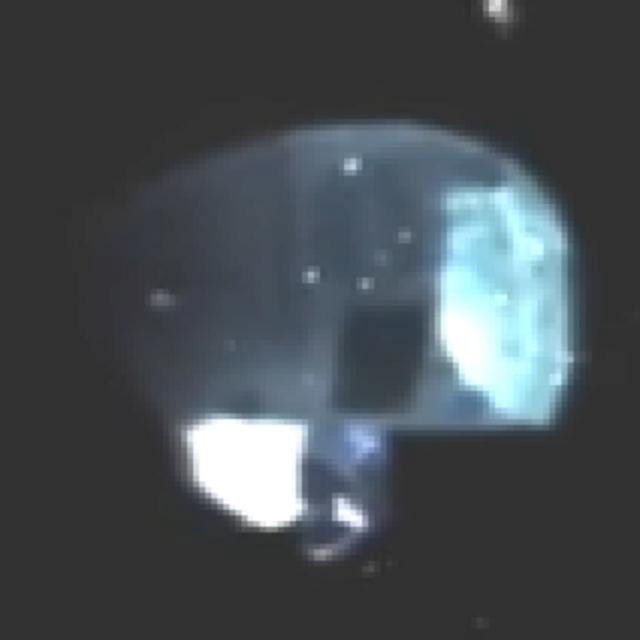large_debris: (8, 94, 619, 565)
